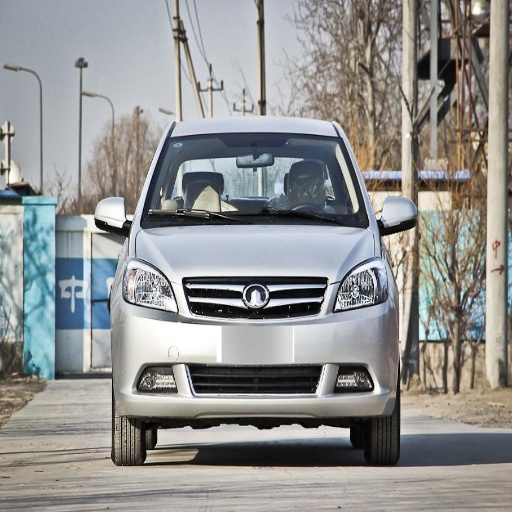front_bumper: (114, 278, 402, 417)
front_right_light: (122, 257, 177, 317)
hood: (139, 225, 375, 297)
left_mirror: (379, 196, 418, 235)
